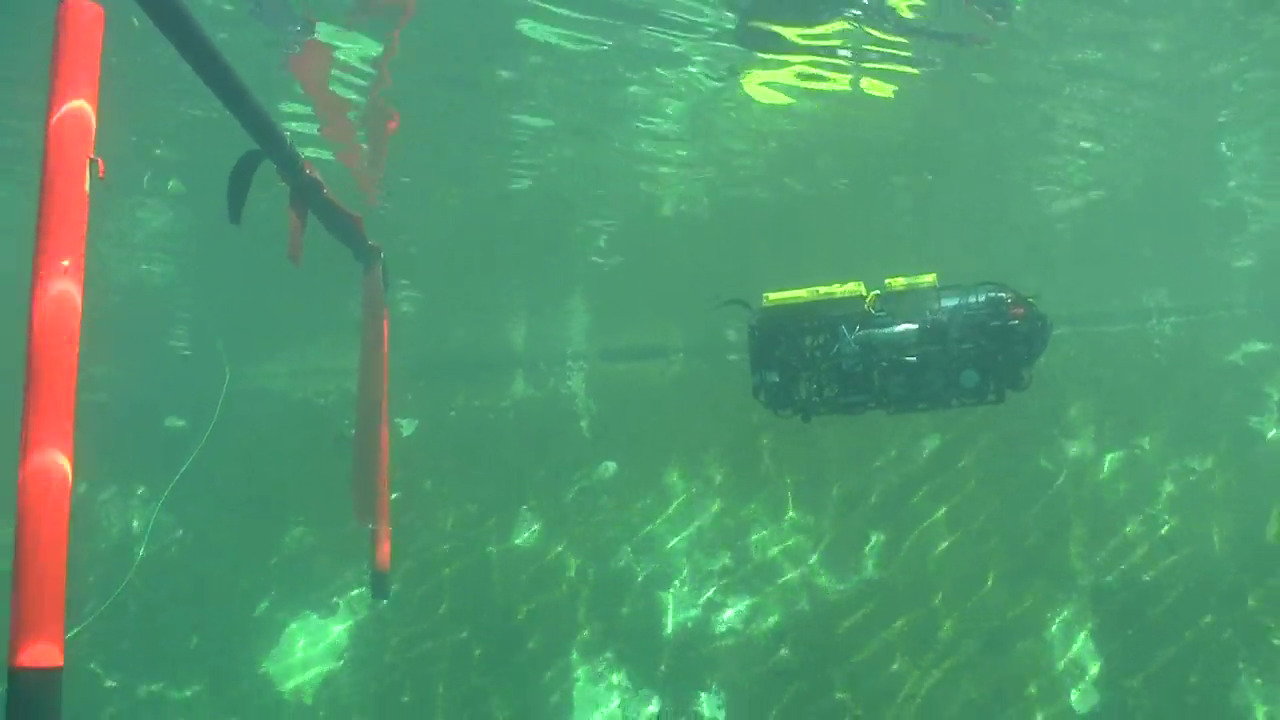gate: (4, 1, 408, 718)
